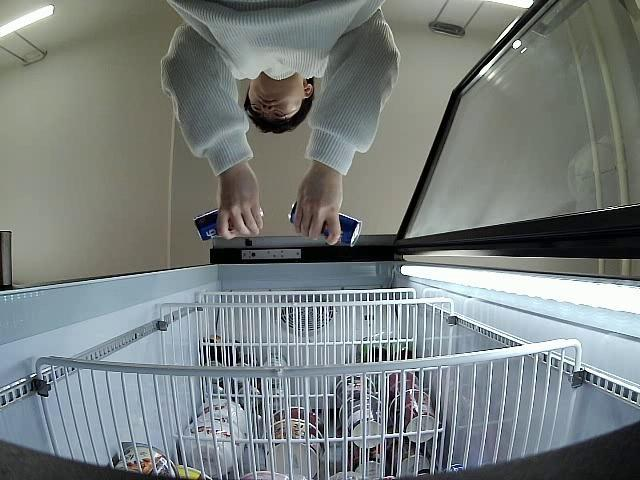16_hot6: (288, 201, 364, 248), (194, 208, 263, 241)
